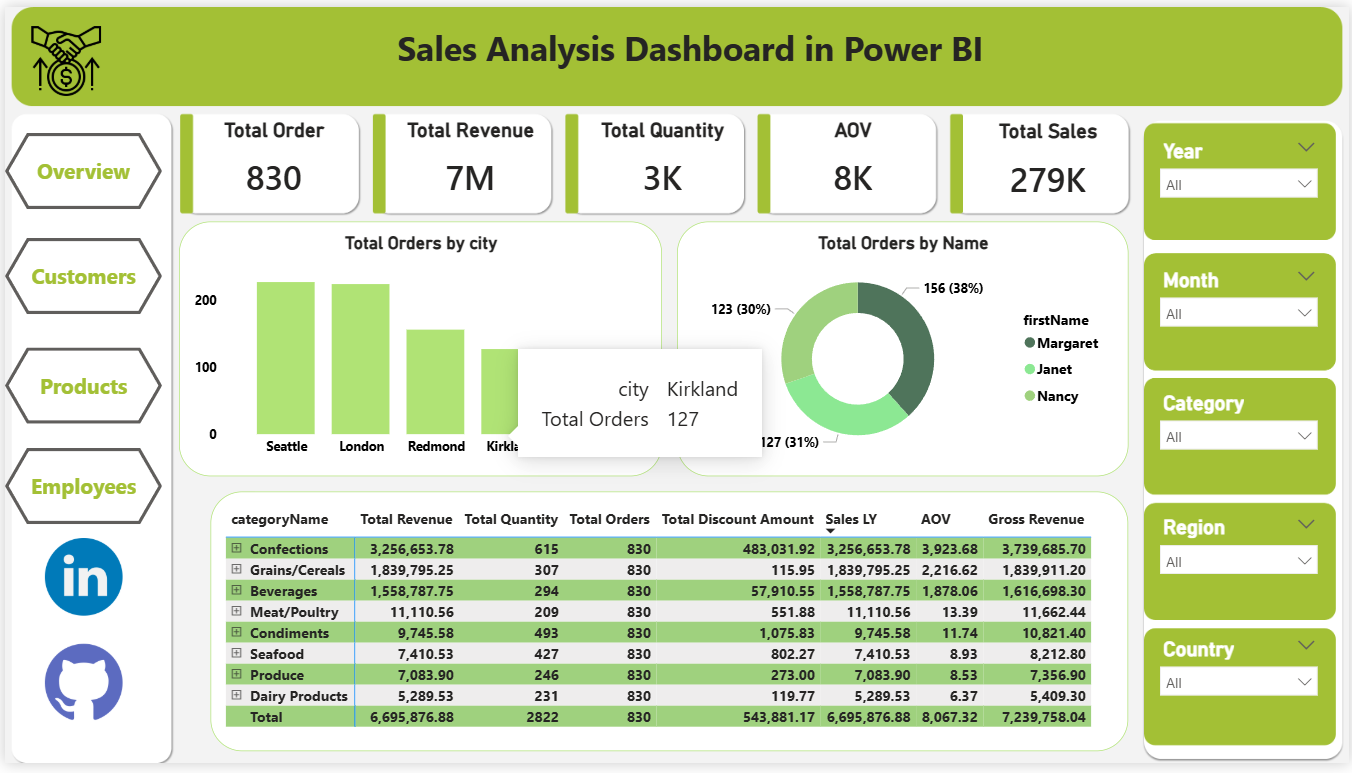

The page's visual inventory and layout, read from the dashboard file:
{"tool":"powerbi","page":{"name":"Page 1","canvas":[1280,720],"ordinal":0},"visuals":[{"type":"textbox","box":[247.3,12.6,811.2,78.8],"z":0},{"type":"actionButton","box":[0,119.7,149.6,72.5],"z":1000},{"type":"actionButton","box":[0,220.5,149.6,72.5],"z":2000},{"type":"actionButton","box":[0,324.5,149.6,72.5],"z":3000},{"type":"actionButton","box":[0,420.5,149.6,72.5],"z":4000},{"type":"image","box":[20.5,505.6,110.3,74],"z":5000},{"type":"image","box":[20.5,606.4,110.3,74],"z":6000},{"type":"slicer","fields":{"Values":["Dates.Year"]},"box":[1090,119.7,170.1,100.8],"z":7000},{"type":"slicer","fields":{"Values":["Dates.Month"]},"box":[1090,242.6,170.1,100.8],"z":8000},{"type":"slicer","fields":{"Values":["customers.region"]},"box":[1090,478.8,170.1,100.8],"z":9000},{"type":"slicer","fields":{"Values":["categories.categoryName"]},"box":[1090,360.7,170.1,100.8],"z":10000},{"type":"slicer","fields":{"Values":["customers.country"]},"box":[1090,593.8,170.1,100.8],"z":11000},{"type":"cardVisual","title":"Total Order","fields":{"Data":["_Measures.Total Orders"]},"box":[179.6,105.5,152.8,86.6],"z":12000},{"type":"cardVisual","title":"Total Revenue","fields":{"Data":["_Measures.Total Revenue"]},"box":[367,105.5,152.8,86.6],"z":13000},{"type":"cardVisual","title":"Total Quantity","fields":{"Data":["_Measures.Total Quantity"]},"box":[549.7,105.5,152.8,86.6],"z":14000},{"type":"cardVisual","title":"AOV","fields":{"Data":["_Measures.AOV"]},"box":[730.8,105.5,152.8,86.6],"z":15000},{"type":"cardVisual","title":"Total Sales","fields":{"Data":["_Measures.Total Sales"]},"box":[916.7,107.1,152.8,86.6],"z":16000},{"type":"image","box":[20,17.1,77.1,68.6],"z":17000},{"type":"areaChart","fields":{"Category":["Dates.Month"],"Y":["_Measures.Total Revenue"]},"box":[168.5,209.5,433.1,225.2],"z":18000},{"type":"donutChart","fields":{"Y":["_Measures.Total Revenue"],"Category":["categories.categoryName"]},"box":[168.8,460.6,432.9,234.3],"z":19000},{"type":"barChart","fields":{"Y":["_Measures.Total Revenue"],"Category":["customers.country"]},"box":[625.4,210.5,434.8,224.4],"z":20000},{"type":"lineChart","fields":{"Y":["_Measures.Total Revenue"],"Category":["Dates.Year"]},"box":[625,461,435,234],"z":21000}]}

Visuals, with their boxes in screenshot pixels (x1, y1, x2, y2), scaled from the page's 1280x720 canvas onto the 1352x773 screenshot:
textbox: (left=261, top=14, right=1118, bottom=98)
actionButton: (left=0, top=129, right=158, bottom=206)
actionButton: (left=0, top=237, right=158, bottom=315)
actionButton: (left=0, top=348, right=158, bottom=426)
actionButton: (left=0, top=451, right=158, bottom=529)
image: (left=22, top=543, right=138, bottom=622)
image: (left=22, top=651, right=138, bottom=730)
slicer - Dates.Year: (left=1151, top=129, right=1331, bottom=237)
slicer - Dates.Month: (left=1151, top=260, right=1331, bottom=369)
slicer - customers.region: (left=1151, top=514, right=1331, bottom=622)
slicer - categories.categoryName: (left=1151, top=387, right=1331, bottom=495)
slicer - customers.country: (left=1151, top=638, right=1331, bottom=746)
"Total Order" cardVisual: (left=190, top=113, right=351, bottom=206)
"Total Revenue" cardVisual: (left=388, top=113, right=549, bottom=206)
"Total Quantity" cardVisual: (left=581, top=113, right=742, bottom=206)
"AOV" cardVisual: (left=772, top=113, right=933, bottom=206)
"Total Sales" cardVisual: (left=968, top=115, right=1130, bottom=208)
image: (left=21, top=18, right=103, bottom=92)
areaChart - Dates.Month x _Measures.Total Revenue: (left=178, top=225, right=635, bottom=467)
donutChart - _Measures.Total Revenue x categories.categoryName: (left=178, top=495, right=636, bottom=746)
barChart - _Measures.Total Revenue x customers.country: (left=661, top=226, right=1120, bottom=467)
lineChart - _Measures.Total Revenue x Dates.Year: (left=660, top=495, right=1120, bottom=746)
